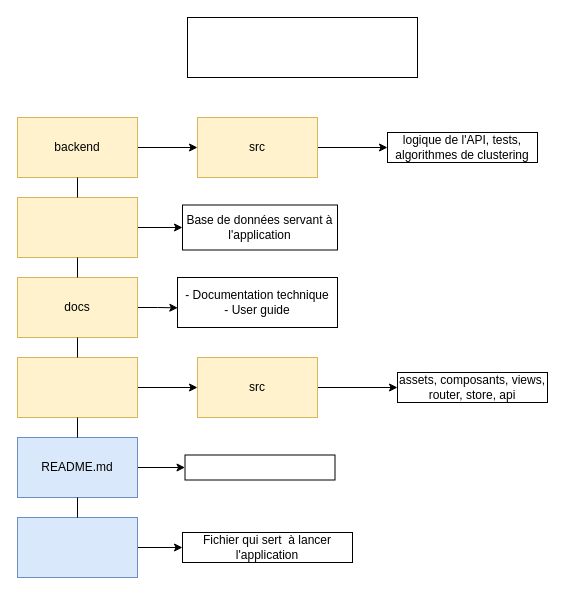
This 565x595 diagram has some shape labels left out. Each missing label, with the centre of its shape:
"Clusturing de camarades" belongs at pixel 302 47.
"database" belongs at pixel 77 227.
"Documentation générale" belongs at pixel 259 467.
"frontend" belongs at pixel 77 387.
"start.bat" belongs at pixel 77 547.
